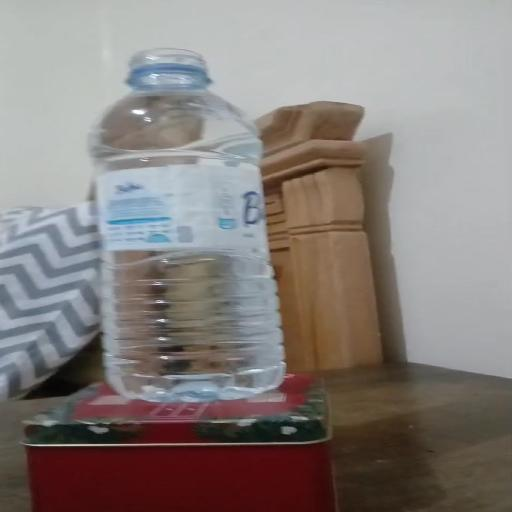bouteille non conformite: (91, 41, 301, 400), (126, 50, 230, 96)
